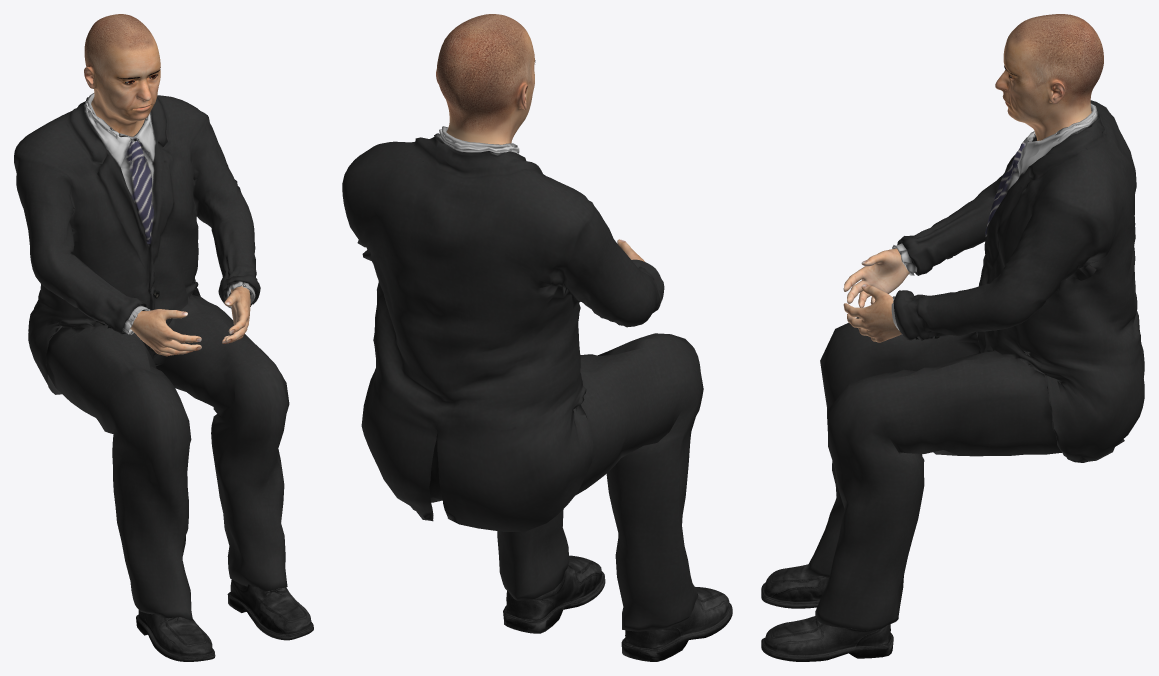
Rendered from debug-sitting.glb.
3 views of the same model, side by side, from view 1: azimuth 30°, elevation 25°; view 2: azimuth 150°, elevation 25°; view 3: azimuth 270°, elevation 25° (orthographic). The views are drawn at different scales.
Visible parts, largest first — view 1: male_elegantsuit01, Ellis | anatomical body, shoes04; view 2: male_elegantsuit01, Ellis | anatomical body, shoes04; view 3: male_elegantsuit01, Ellis | anatomical body, shoes04.
Boxes of the visible parts, bbox=[...] form: male_elegantsuit01: bbox=[14, 93, 289, 620]; Ellis | anatomical body: bbox=[84, 14, 250, 356]; shoes04: bbox=[136, 579, 313, 661]; male_elegantsuit01: bbox=[342, 126, 703, 631]; Ellis | anatomical body: bbox=[436, 14, 644, 261]; shoes04: bbox=[503, 555, 732, 661]; male_elegantsuit01: bbox=[805, 100, 1144, 630]; Ellis | anatomical body: bbox=[843, 14, 1103, 342]; shoes04: bbox=[761, 564, 893, 661].
Bounding box in the file's own units: 0.5672 × 1.36 × 0.7788.
7 materials, 7 textured.
